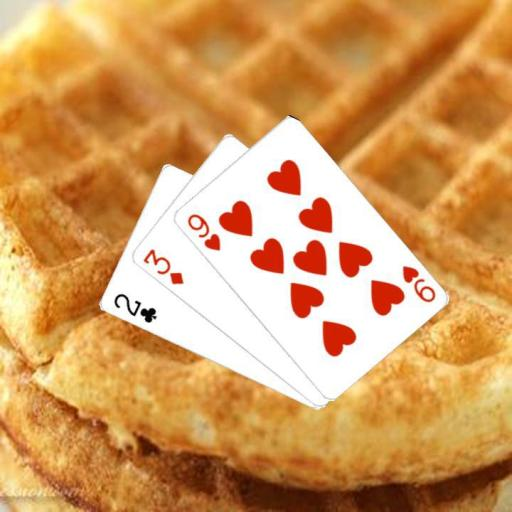2C: (109, 290, 158, 325)
3D: (140, 246, 186, 287)
9H: (183, 210, 222, 252), (398, 262, 437, 304)
